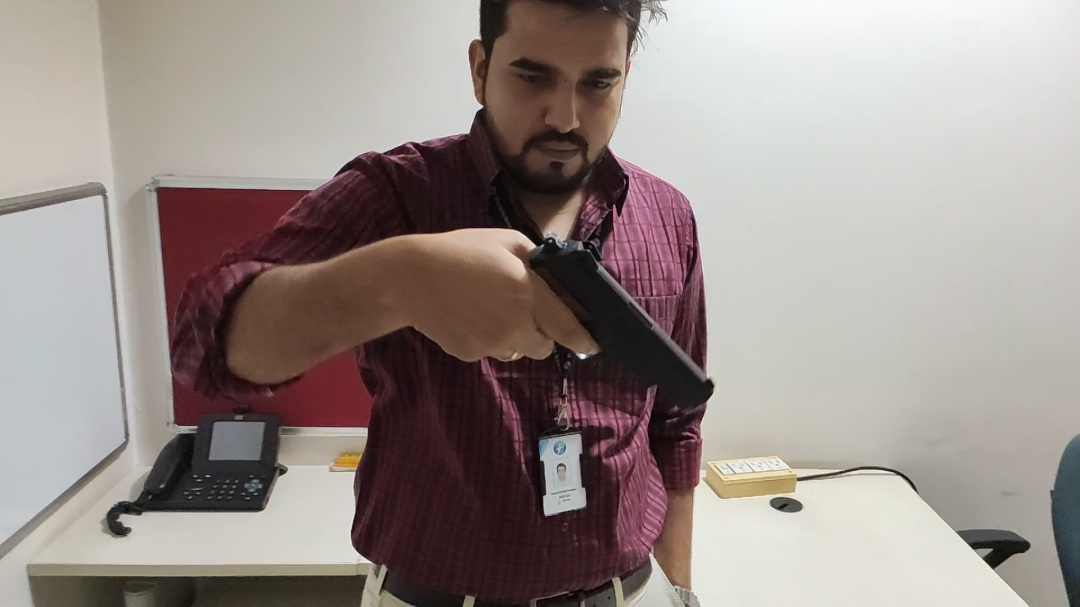gun: (464, 228, 725, 412)
